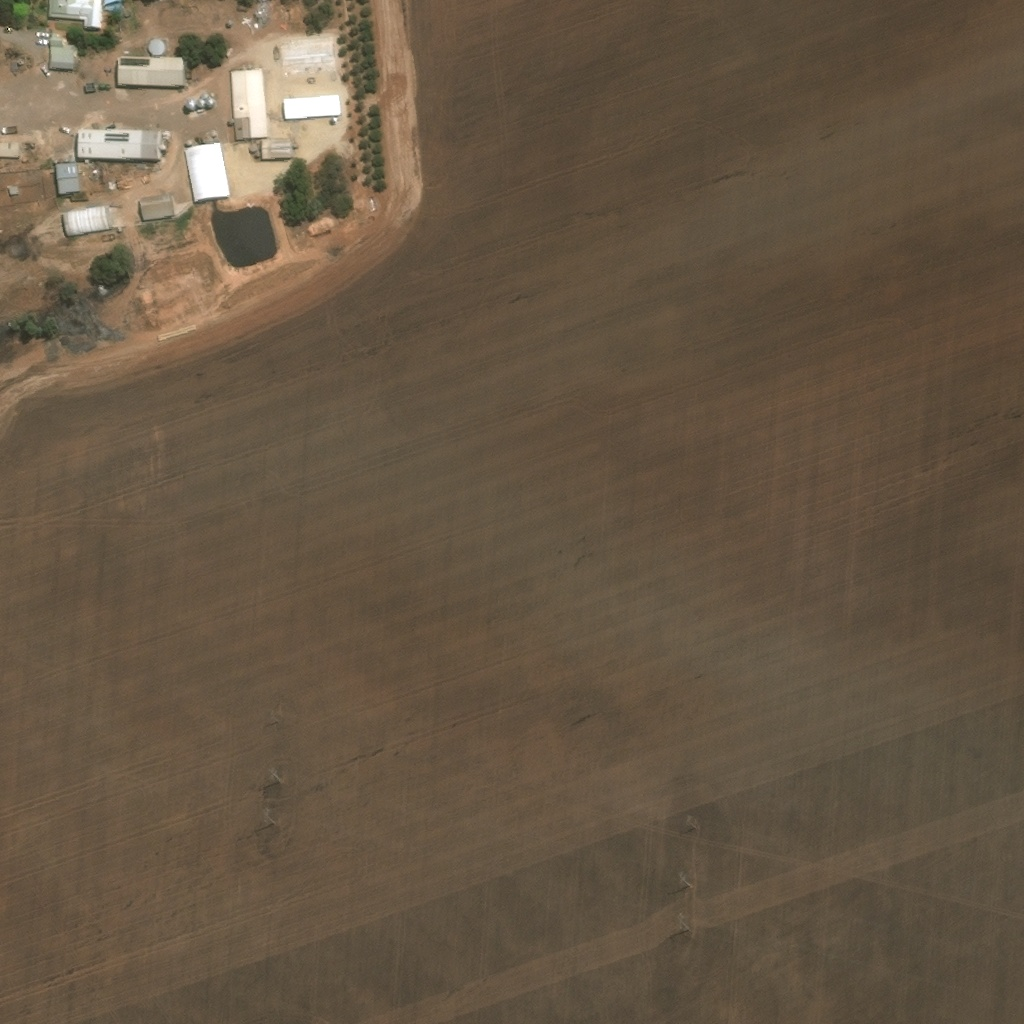0 no-damage: (231, 69, 277, 138), (78, 128, 161, 161), (186, 140, 229, 203), (117, 55, 184, 85), (64, 204, 113, 236), (49, 0, 102, 28), (48, 36, 75, 69), (140, 194, 175, 219), (55, 161, 82, 193), (263, 137, 295, 158), (191, 57, 213, 83), (0, 142, 20, 156), (147, 38, 164, 54), (186, 95, 196, 108), (196, 96, 206, 107), (205, 96, 215, 107), (8, 185, 19, 195)
4 un-classified: (236, 144, 250, 158), (261, 318, 273, 330), (406, 333, 419, 344), (562, 317, 573, 329), (799, 245, 811, 255)
